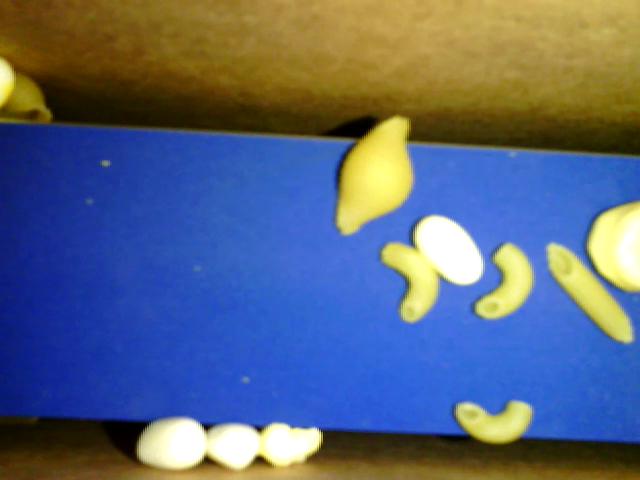elbow: (380, 244, 440, 325), (476, 240, 533, 319), (454, 395, 533, 445)
penne: (546, 240, 633, 347)
shell: (337, 112, 414, 238), (5, 63, 50, 127)
